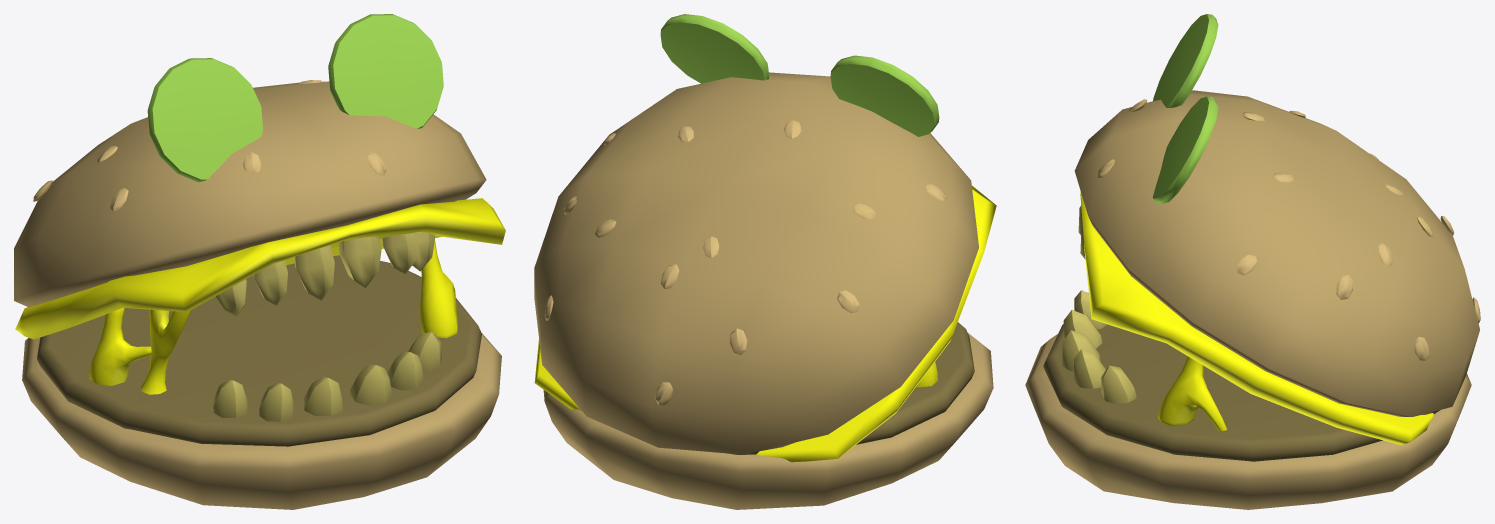
The model's file is BurgerEnemy.fbx.
The picture shows the model from 3 angles, left to right: view 1: azimuth 30°, elevation 25°; view 2: azimuth 150°, elevation 25°; view 3: azimuth 270°, elevation 25°; orthographic projection. The views are drawn at different scales.
Visible parts, largest first — view 1: TopHalf, BottomHalf, CheeseStrands; view 2: TopHalf, BottomHalf; view 3: TopHalf, BottomHalf, CheeseStrands.
Boxes of the visible parts, left/top/right/bottom form: TopHalf: left=14, top=14, right=505, bottom=339; BottomHalf: left=22, top=255, right=501, bottom=509; CheeseStrands: left=89, top=240, right=458, bottom=394; TopHalf: left=534, top=14, right=996, bottom=462; BottomHalf: left=543, top=322, right=993, bottom=509; TopHalf: left=1074, top=14, right=1480, bottom=445; BottomHalf: left=1025, top=290, right=1471, bottom=509; CheeseStrands: left=1158, top=356, right=1227, bottom=431.
Bounding box in the file's own units: 16.22 × 15.23 × 16.34.
